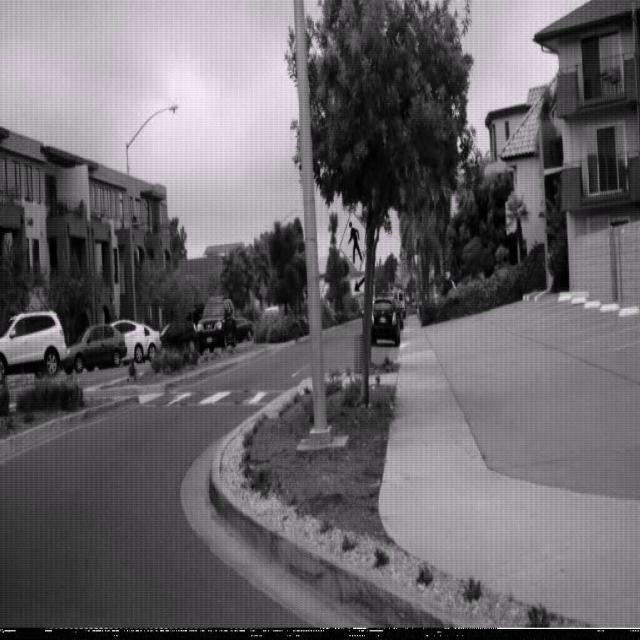pedestrianCrossing: (339, 208, 373, 274)
